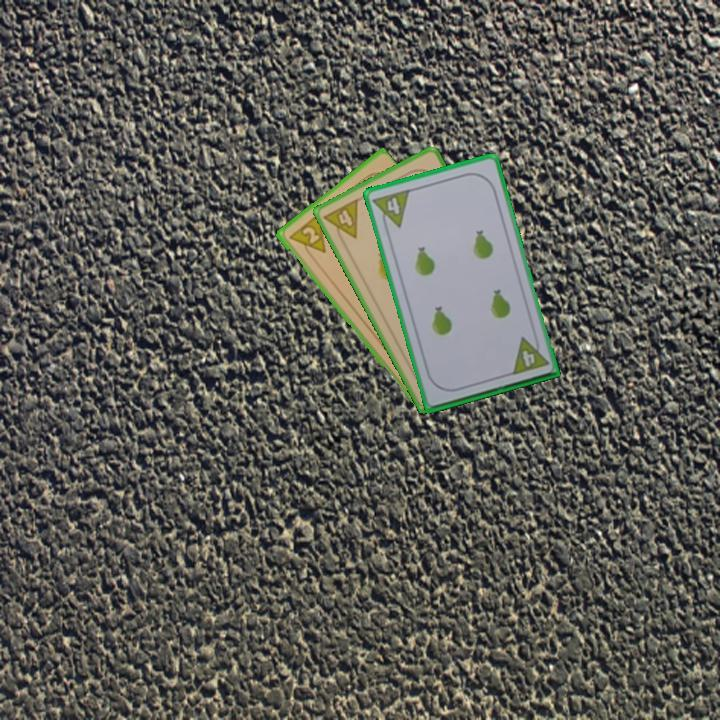2p: (284, 211, 329, 263)
4p: (369, 185, 413, 234), (320, 195, 361, 247), (508, 331, 551, 378)
